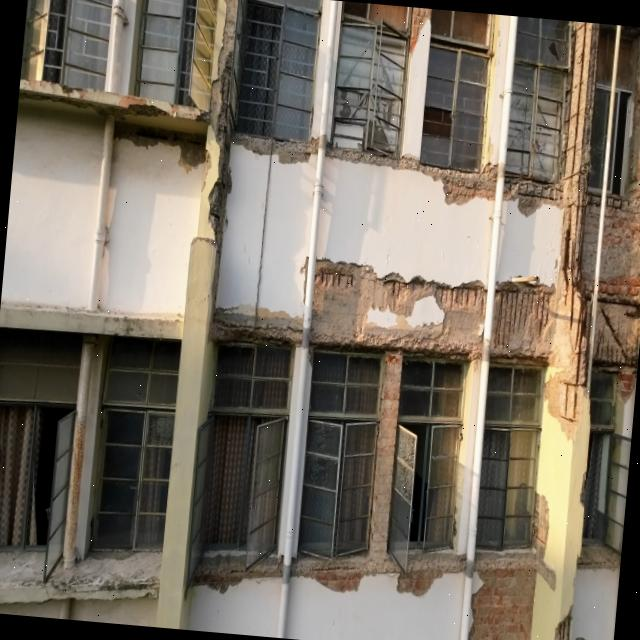spalling: (312, 259, 485, 358), (207, 0, 247, 329), (293, 550, 463, 596), (469, 551, 536, 640), (473, 549, 537, 640), (494, 282, 554, 363), (599, 195, 640, 307), (193, 553, 280, 592), (439, 171, 494, 204), (581, 194, 599, 293), (513, 178, 561, 200)
